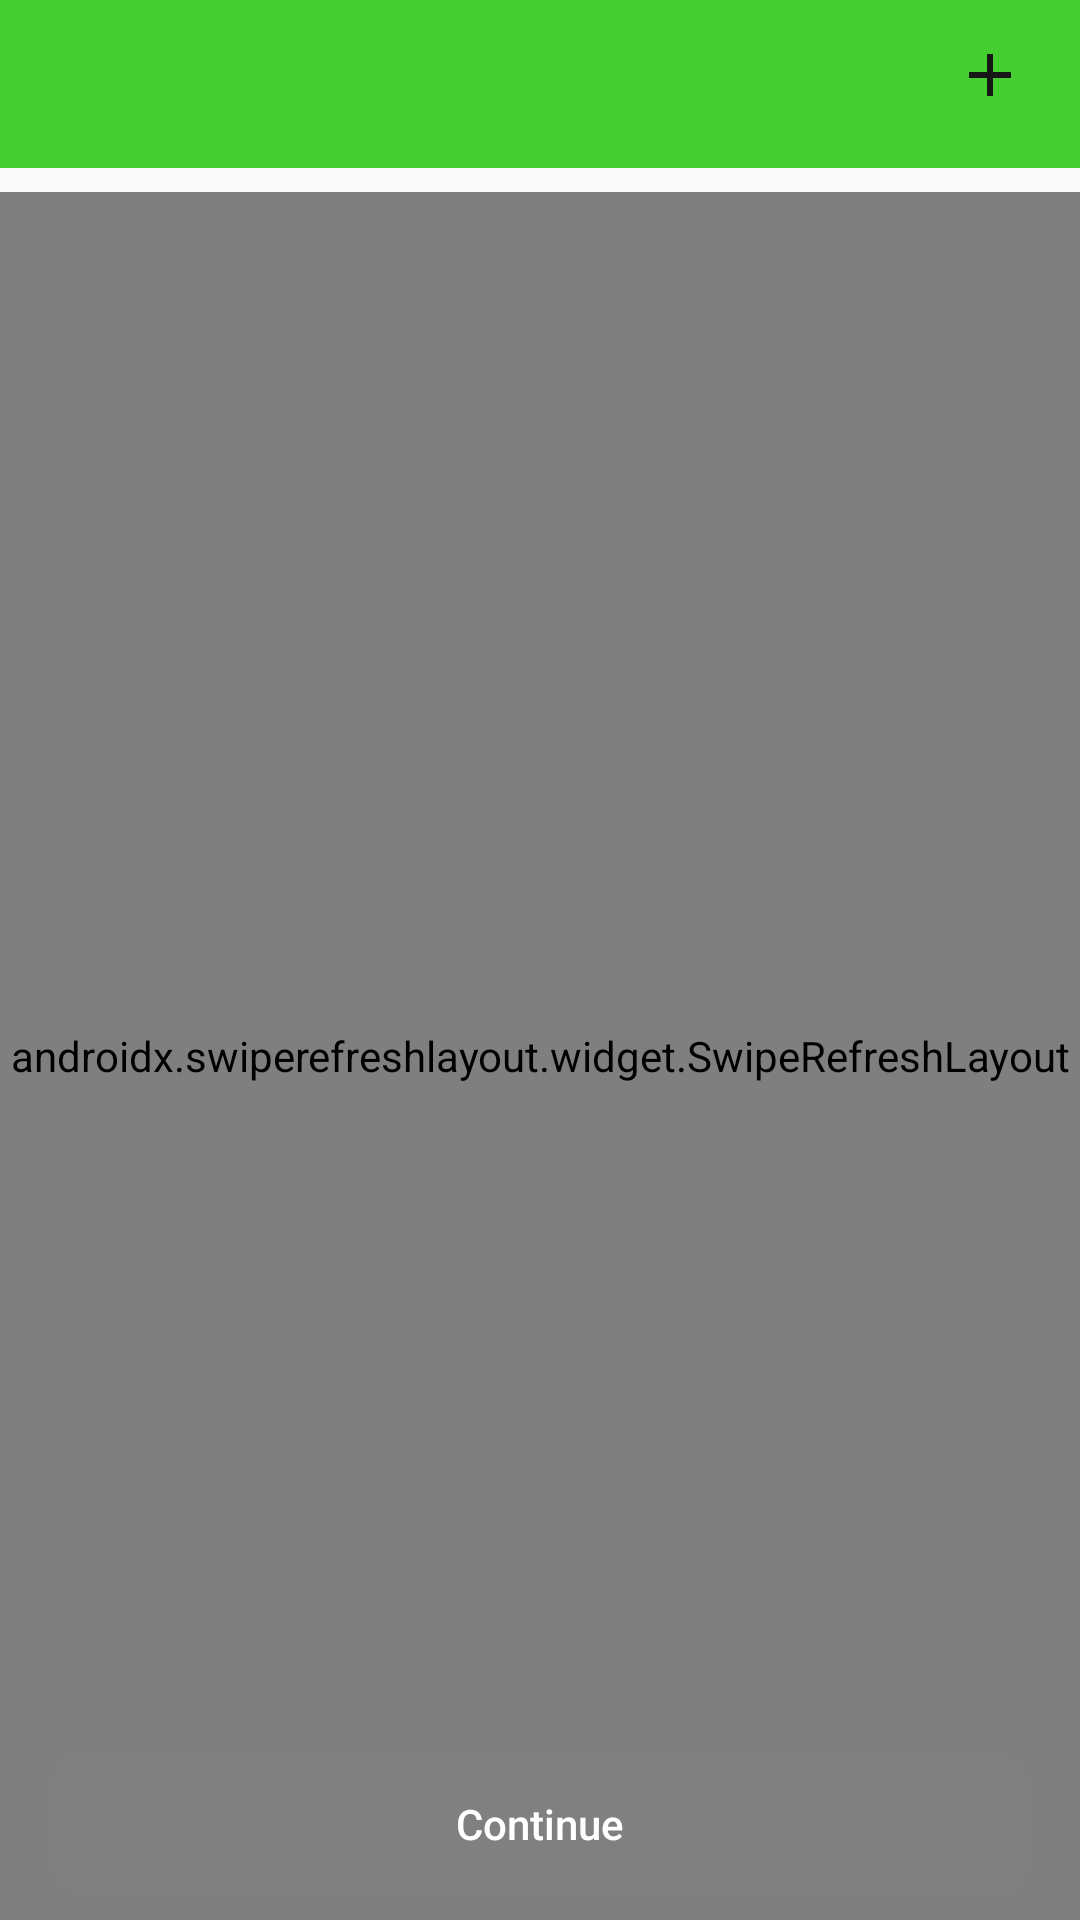

Icons on this 1080*1920 Android screen, each with the point to tap as (x,y):
add: (990,75)
